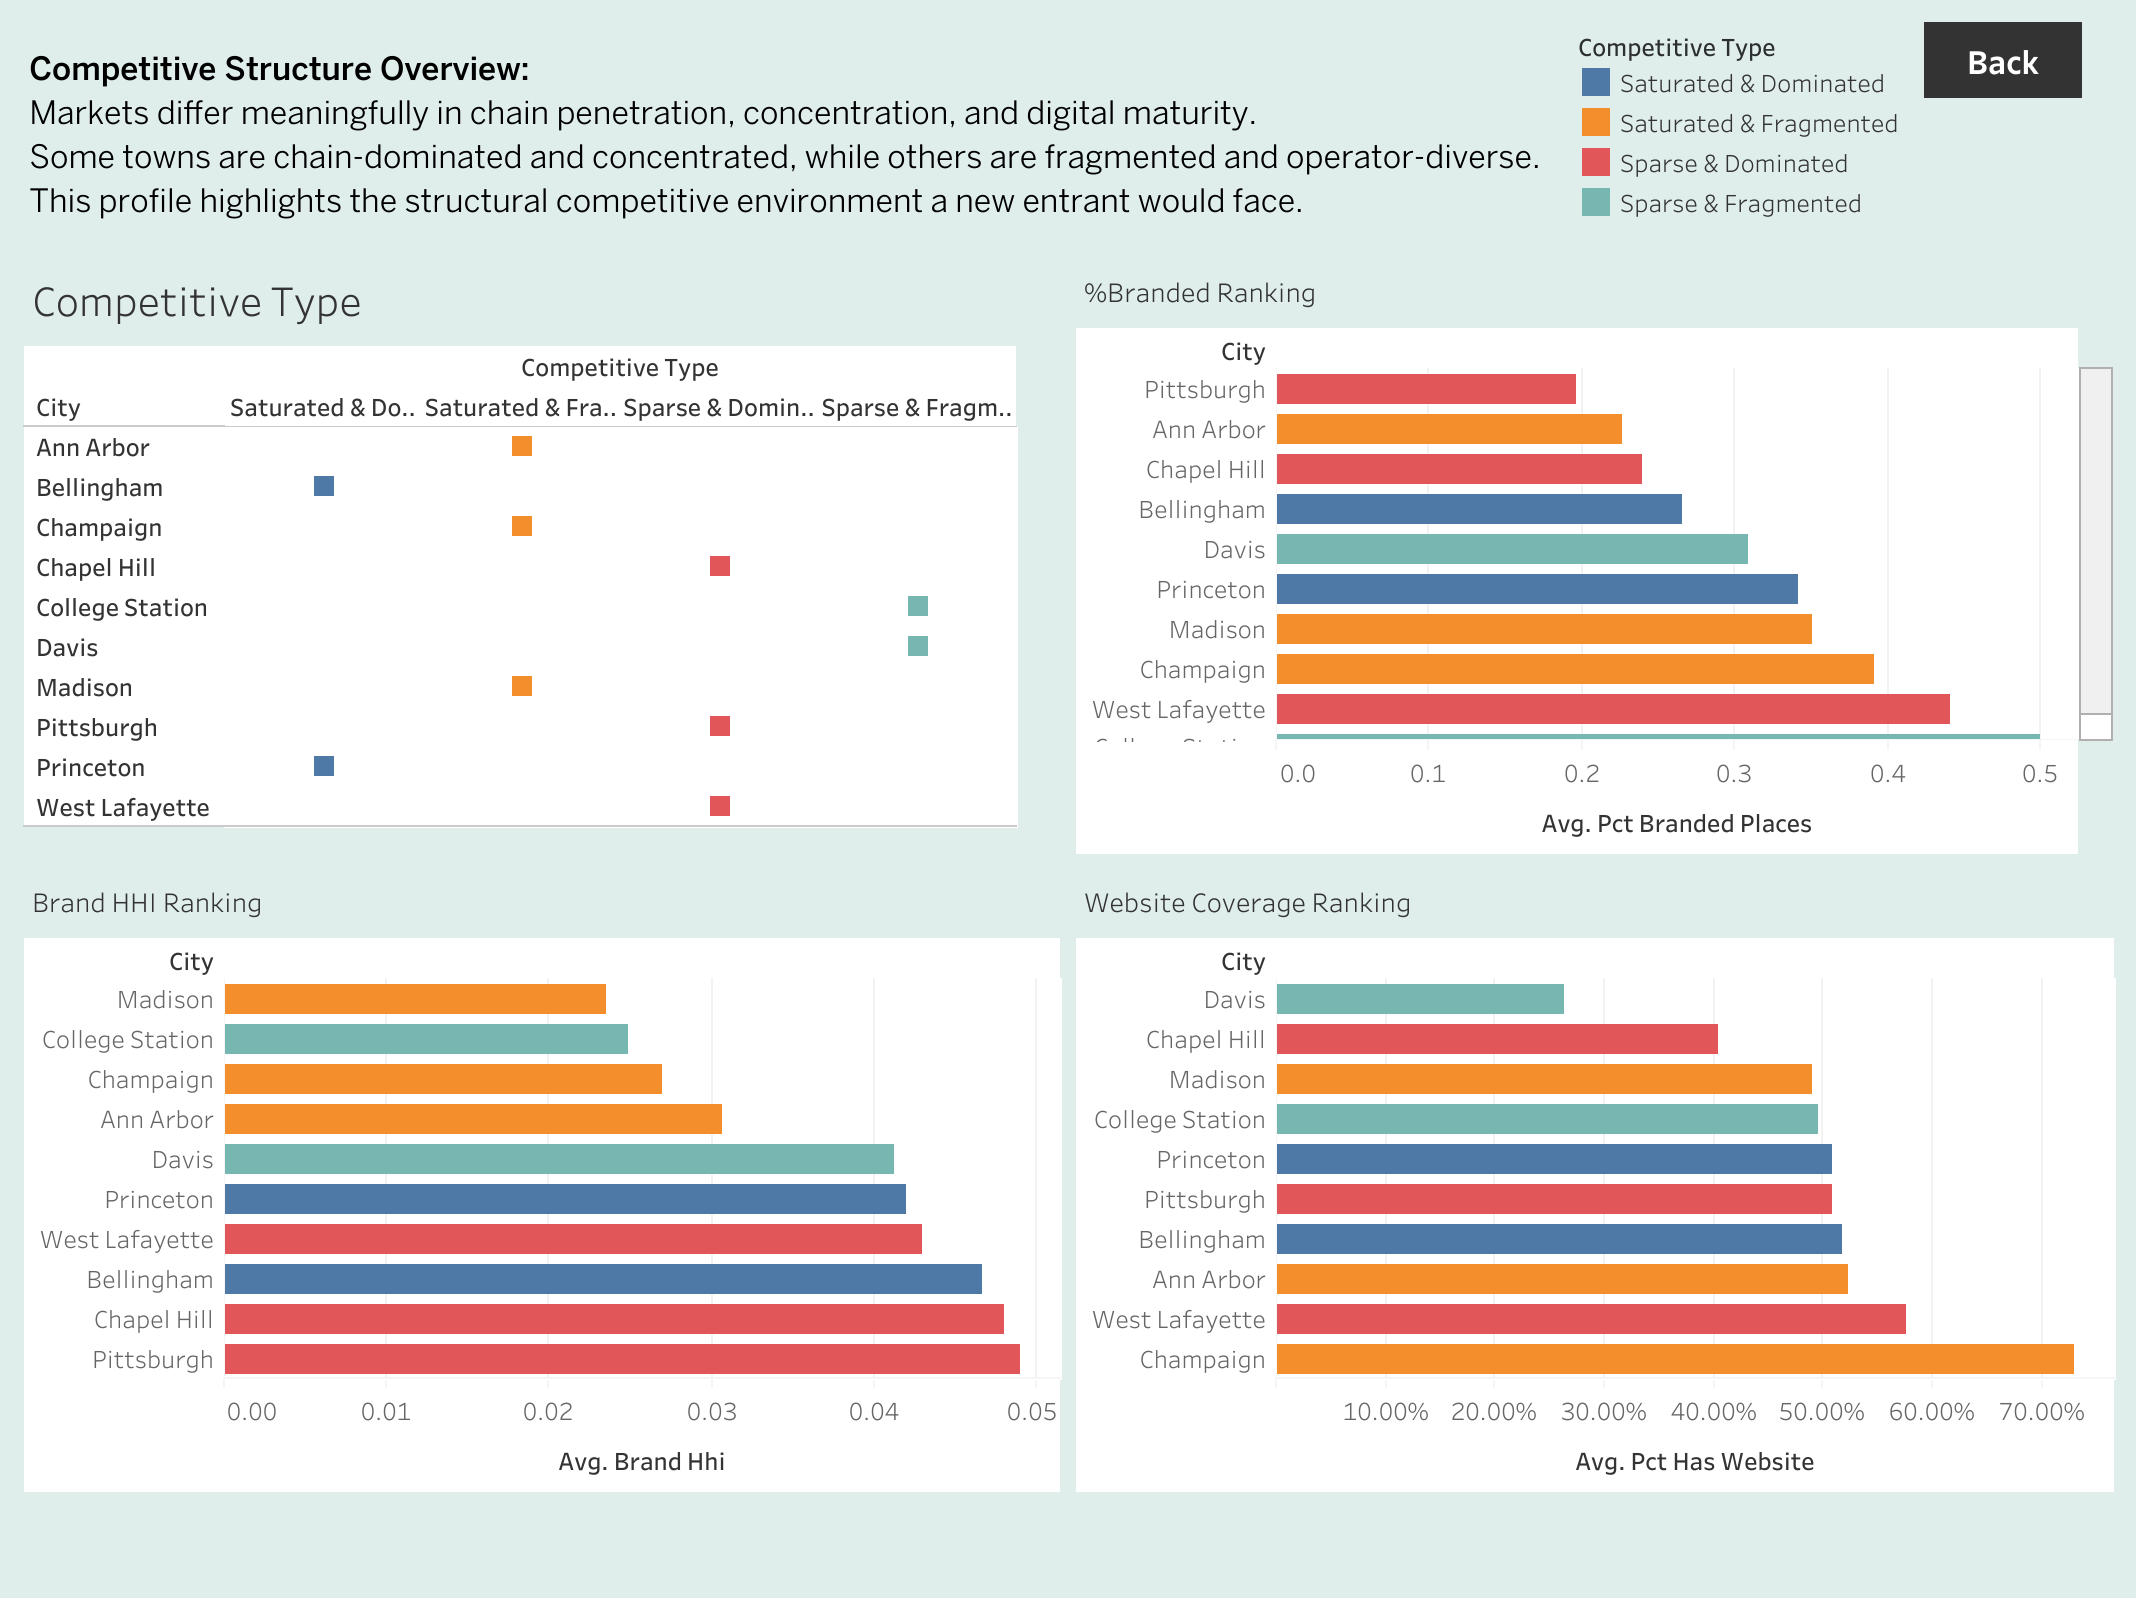

This screenshot's page, from the dashboard's own definition file:
{"tool":"tableau","page":{"name":"Competition Dashboard","canvas":[1069,800],"ordinal":1},"visuals":[{"type":"text","box":[8,8,776,118]},{"type":"legend","title":"Competitive Type","param":"[federated.15o610m02cbuo01b2kiug1f0fh9t].[none:competitive_type:nk]","box":[784,8,277,106]},{"type":"dashboard-object","box":[962,11,79,38]},{"type":"worksheet","title":"Competitive Type","mark":"Automatic","rows":["city"],"cols":["competitive_type"],"box":[8,126,526.5,292]},{"type":"worksheet","title":"%Branded Ranking","mark":"Automatic","rows":["city"],"cols":["pct_branded_places"],"box":[534.5,126,526.5,305]},{"type":"worksheet","title":"Brand HHI Ranking","mark":"Automatic","rows":["city"],"cols":["brand_hhi"],"box":[8,431,526.3,361]},{"type":"worksheet","title":"Website Coverage Ranking","mark":"Automatic","rows":["city"],"cols":["pct_has_website"],"box":[534.3,431,526.7,361]}]}

Visuals, with their boxes in screenshot pixels (x1, y1, x2, y2), scaled from the page's 1069x800 canvas onto the 2136x1598 screenshot:
text: <box>16,16,1567,252</box>
"Competitive Type" legend: <box>1567,16,2120,228</box>
dashboard-object: <box>1922,22,2080,98</box>
"Competitive Type" worksheet: <box>16,252,1068,835</box>
"%Branded Ranking" worksheet: <box>1068,252,2120,861</box>
"Brand HHI Ranking" worksheet: <box>16,861,1068,1582</box>
"Website Coverage Ranking" worksheet: <box>1068,861,2120,1582</box>
